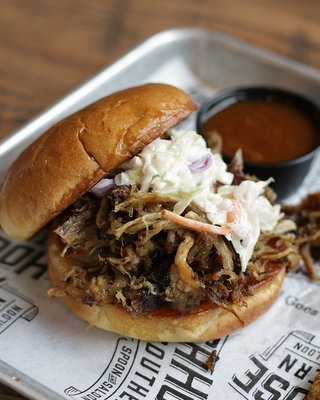soup: (35, 124, 308, 344), (0, 82, 201, 244)
